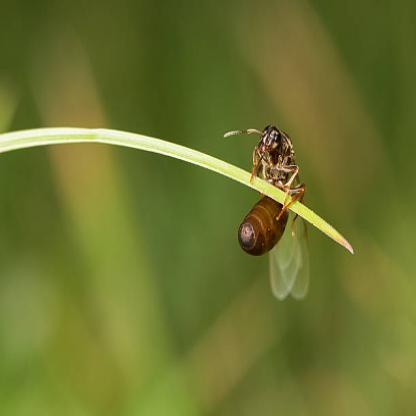sawfly: (218, 114, 318, 312)
